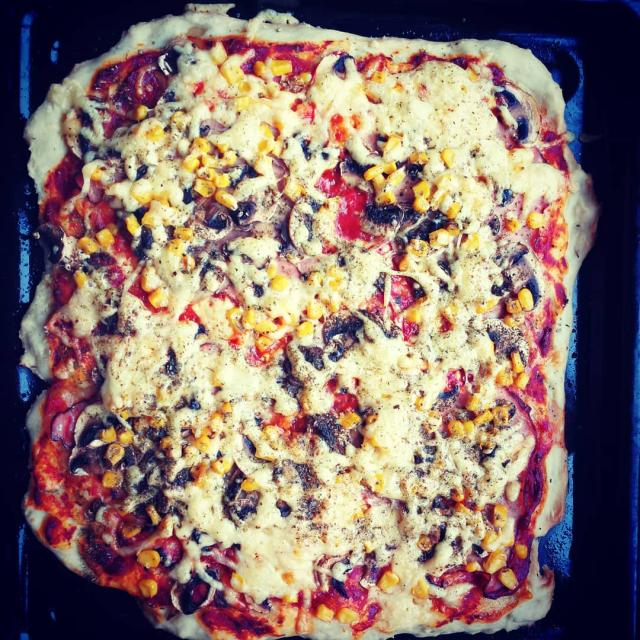mushrooms: (491, 243, 540, 303), (75, 405, 135, 449), (424, 522, 465, 576), (289, 200, 322, 256), (171, 576, 215, 615), (487, 323, 529, 363), (130, 130, 158, 180), (339, 156, 372, 192), (481, 440, 509, 481), (59, 235, 86, 272), (62, 109, 82, 158), (226, 480, 248, 524), (414, 445, 436, 478), (451, 509, 465, 520)
pizza: (21, 5, 599, 640)
